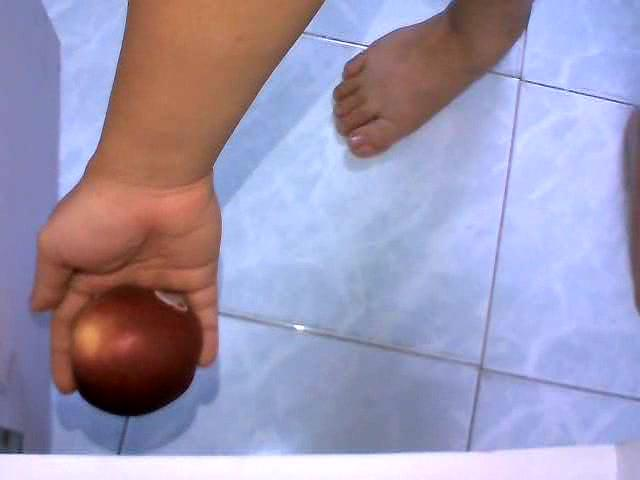apple: (68, 283, 205, 418)
